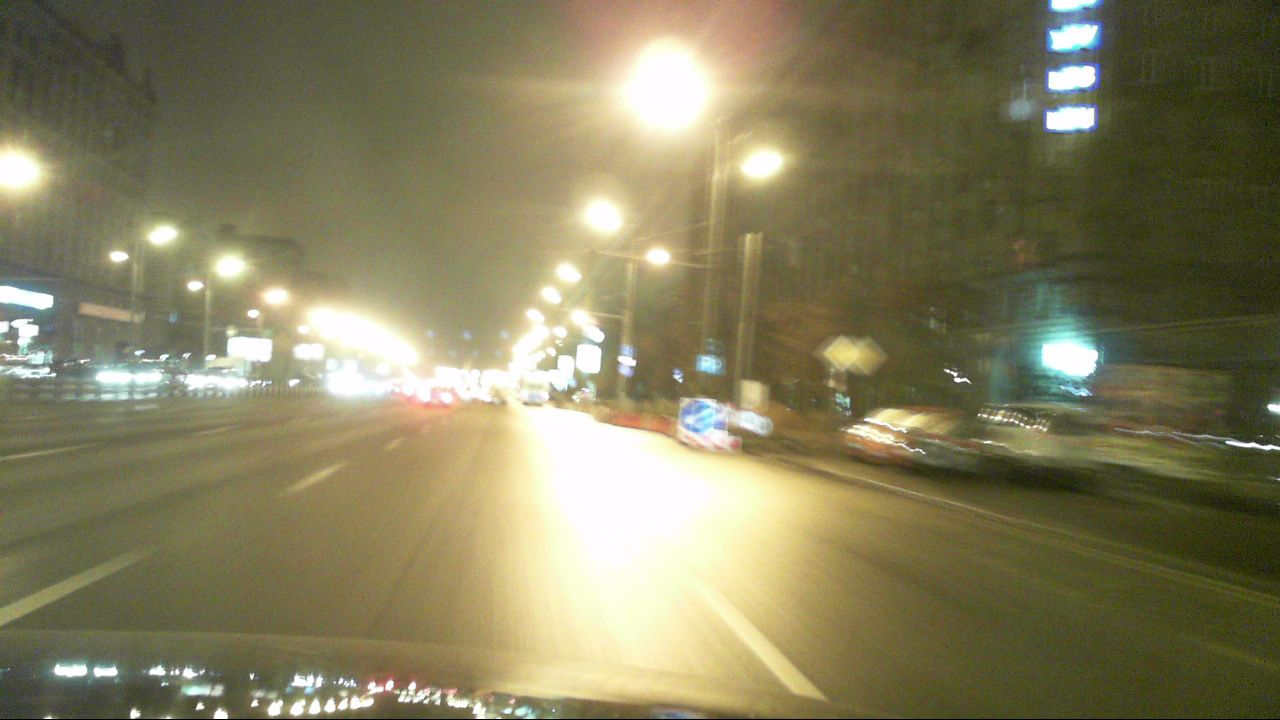speed_warning_40: (753, 416, 773, 436)
